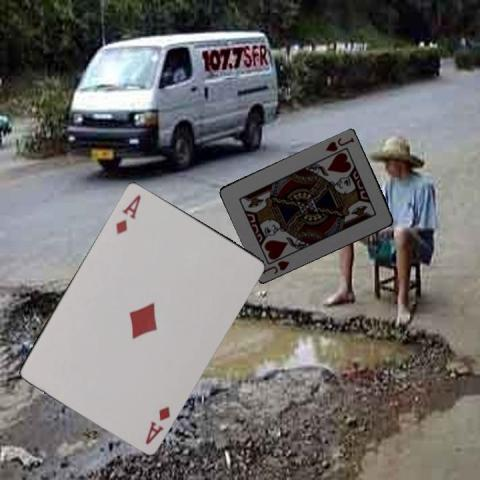Ad: (112, 191, 143, 236), (142, 403, 171, 445)
Jh: (323, 134, 355, 153), (259, 257, 291, 276)
